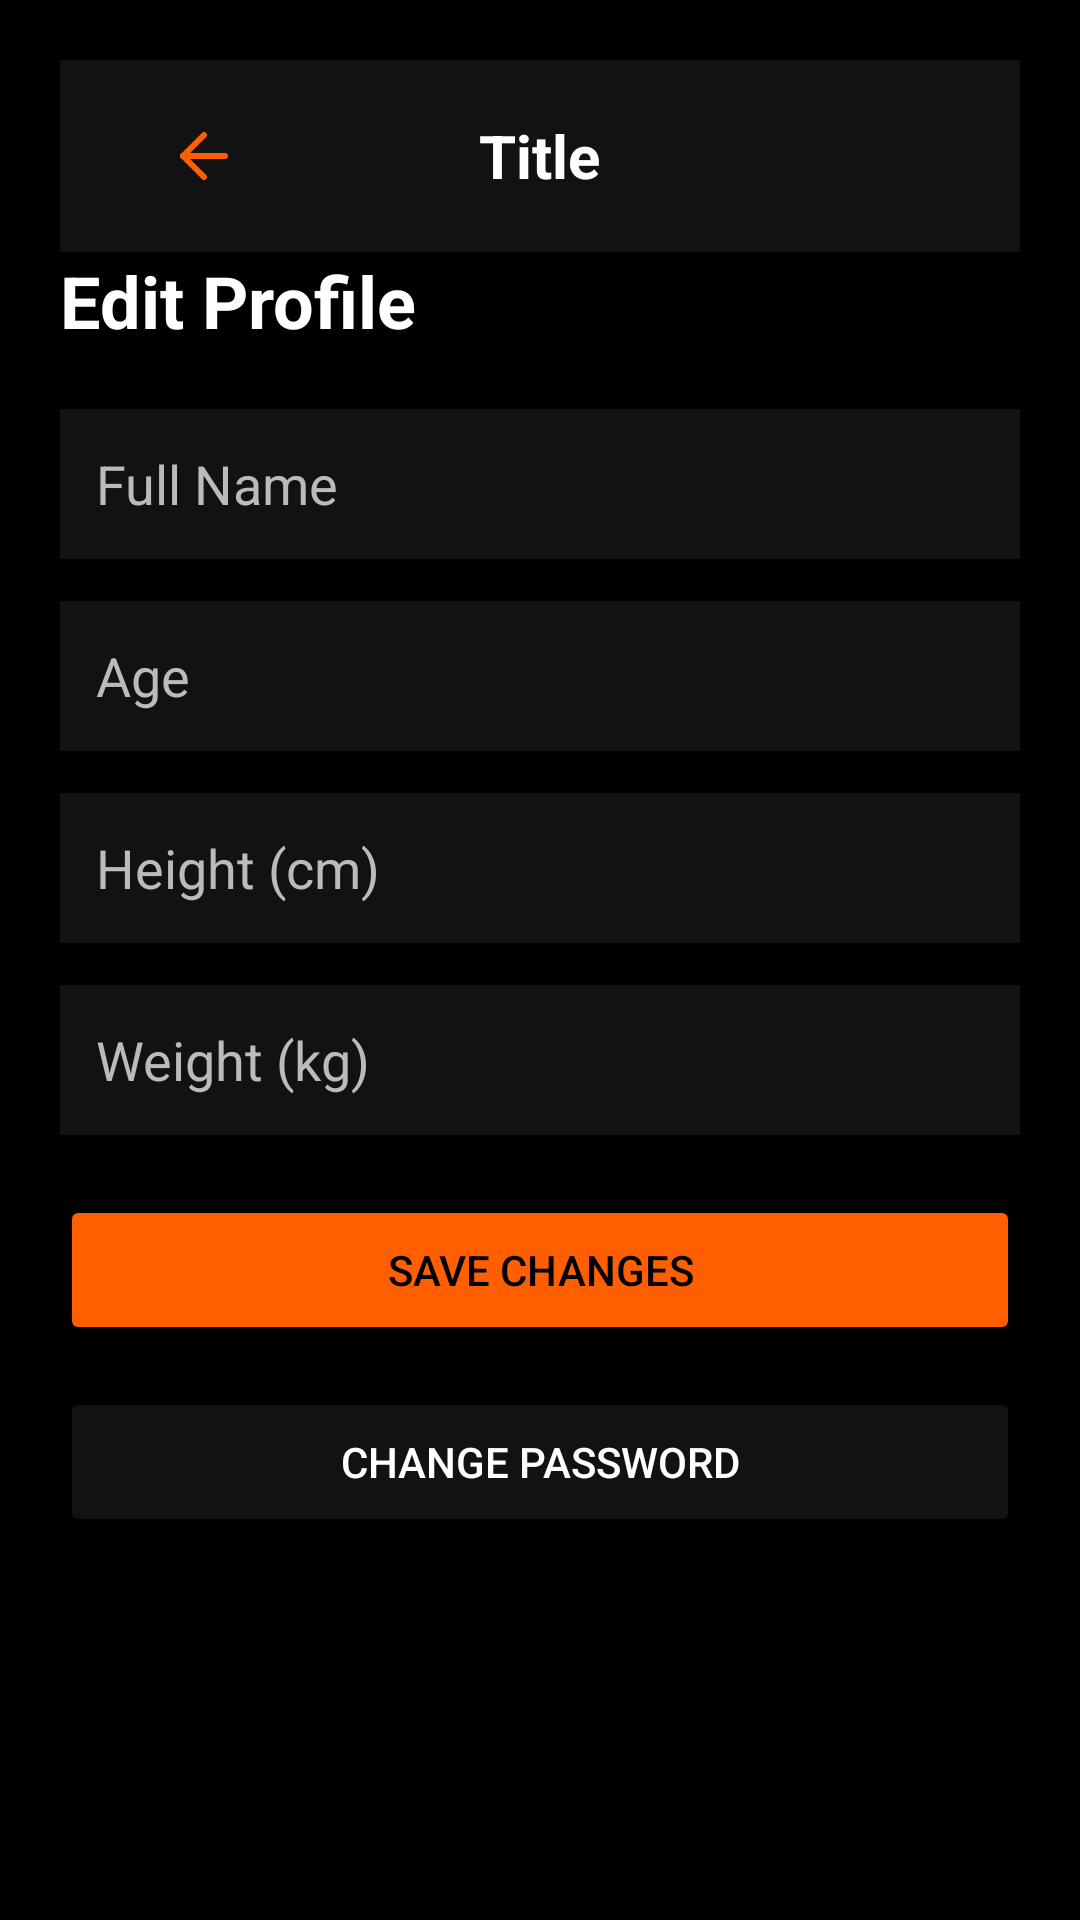

Screen size 1080x1920. Icon name, then its box in pixels as (x1, y1, x2, y2):
go back: (180, 132, 228, 180)
